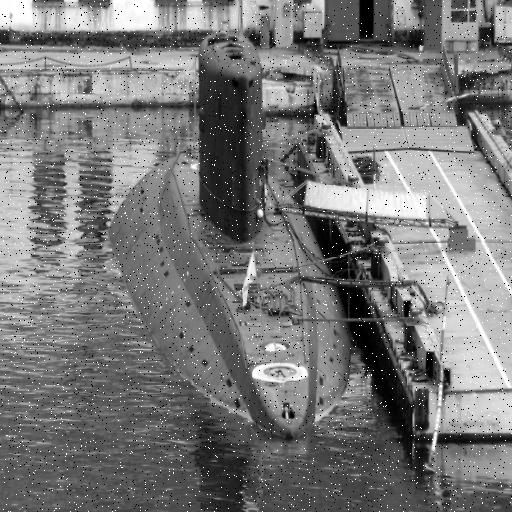submarine: (110, 32, 357, 439)
